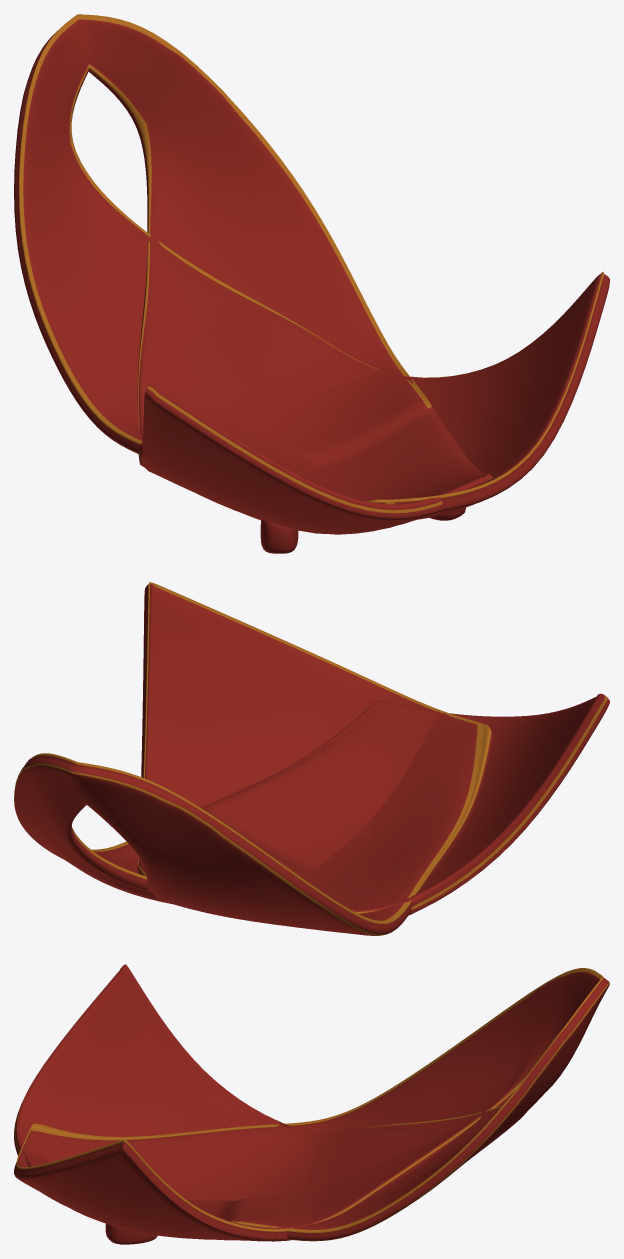
The model's file is eic0363.glb.
3 renders of one model, top to bottom at view 1: azimuth 30°, elevation 25°; view 2: azimuth 150°, elevation 25°; view 3: azimuth 270°, elevation 25°, orthographic. The views are drawn at different scales.
Visible parts, largest first — view 1: Plane.002, Cube.001; view 2: Plane.002; view 3: Plane.002, Cube.001.
Boxes of the visible parts, left/top/right/bottom form: Plane.002: left=14, top=14, right=609, bottom=534; Cube.001: left=260, top=507, right=465, bottom=553; Plane.002: left=14, top=582, right=609, bottom=935; Plane.002: left=14, top=964, right=609, bottom=1241; Cube.001: left=105, top=1223, right=157, bottom=1244.
Size of the model in its own units: 0.5859 by 0.3604 by 0.8143.
